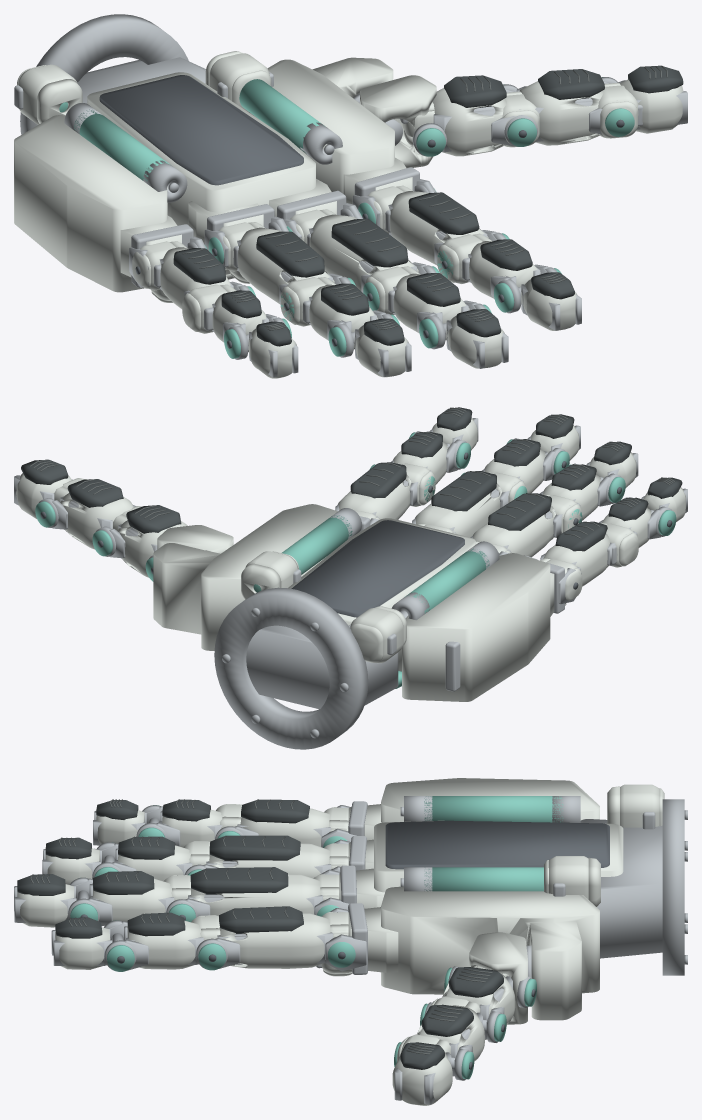
File: nacre18.glb
The picture shows the model from 3 angles, top to bottom: view 1: azimuth 30°, elevation 25°; view 2: azimuth 150°, elevation 25°; view 3: azimuth 270°, elevation 25°; orthographic projection. The views are drawn at different scales.
Visible parts, largest first — view 1: visual__palm_ulnar_wing__0, visual__central_palm__1, visual__central_palm__3, visual__palm_radial_wing__0, visual__central_palm__0, visual__thumb_proximal__0, visual__thumb_oppose_link__1, visual__thumb_metacarpal__0, visual__index_proximal__0, visual__ring_proximal__0, visual__middle_proximal__0, visual__palm_ulnar_wing__2 (+47 smaller); view 2: visual__central_palm__0, visual__palm_ulnar_wing__0, visual__palm_radial_wing__0, visual__central_palm__3, visual__central_palm__1, visual__ring_proximal__0, visual__little_proximal__0, visual__middle_proximal__0, visual__index_proximal__0, visual__palm_ulnar_wing__2, visual__thumb_proximal__0, visual__palm_radial_wing__2 (+30 smaller); view 3: visual__palm_radial_wing__0, visual__central_palm__0, visual__central_palm__3, visual__central_palm__1, visual__palm_ulnar_wing__0, visual__index_proximal__0, visual__palm_ulnar_wing__2, visual__middle_proximal__0, visual__palm_radial_wing__2, visual__thumb_oppose_link__1, visual__middle_proximal__4, visual__ring_proximal__4 (+48 smaller).
Part boxes in pixels (<box>): visual__palm_ulnar_wing__0: <box>14,115,186,302</box>; visual__central_palm__1: <box>17,51,336,283</box>; visual__central_palm__3: <box>99,75,303,185</box>; visual__palm_radial_wing__0: <box>251,57,413,204</box>; visual__central_palm__0: <box>14,14,273,134</box>; visual__thumb_proximal__0: <box>519,81,638,145</box>; visual__thumb_oppose_link__1: <box>360,75,436,167</box>; visual__thumb_metacarpal__0: <box>432,88,539,156</box>; visual__index_proximal__0: <box>389,191,492,283</box>; visual__ring_proximal__0: <box>237,227,336,326</box>; visual__middle_proximal__0: <box>309,214,420,314</box>; visual__palm_ulnar_wing__2: <box>59,102,169,181</box>; visual__central_palm__0: <box>214,569,398,749</box>; visual__palm_ulnar_wing__0: <box>402,553,566,701</box>; visual__palm_radial_wing__0: <box>153,504,337,650</box>; visual__central_palm__3: <box>291,520,464,617</box>; visual__central_palm__1: <box>241,518,475,671</box>; visual__ring_proximal__0: <box>473,494,581,557</box>; visual__little_proximal__0: <box>543,523,638,586</box>; visual__middle_proximal__0: <box>415,472,525,537</box>; visual__index_proximal__0: <box>337,463,435,519</box>; visual__palm_ulnar_wing__2: <box>405,548,489,613</box>; visual__thumb_proximal__0: <box>54,478,133,549</box>; visual__palm_radial_wing__2: <box>253,515,352,592</box>; visual__palm_radial_wing__0: <box>321,886,599,1020</box>; visual__central_palm__0: <box>553,799,687,975</box>; visual__central_palm__3: <box>385,820,609,869</box>; visual__central_palm__1: <box>321,784,664,908</box>; visual__palm_ulnar_wing__0: <box>329,778,599,840</box>; visual__index_proximal__0: <box>191,913,330,968</box>; visual__palm_ulnar_wing__2: <box>424,796,563,822</box>; visual__middle_proximal__0: <box>163,874,320,916</box>; visual__palm_radial_wing__2: <box>424,867,543,891</box>; visual__thumb_oppose_link__1: <box>469,932,527,1024</box>; visual__middle_proximal__4: <box>190,867,288,894</box>; visual__ring_proximal__4: <box>209,835,300,861</box>.
Bounding box in the file's own units: 0.2058 × 0.056 × 0.2136.
